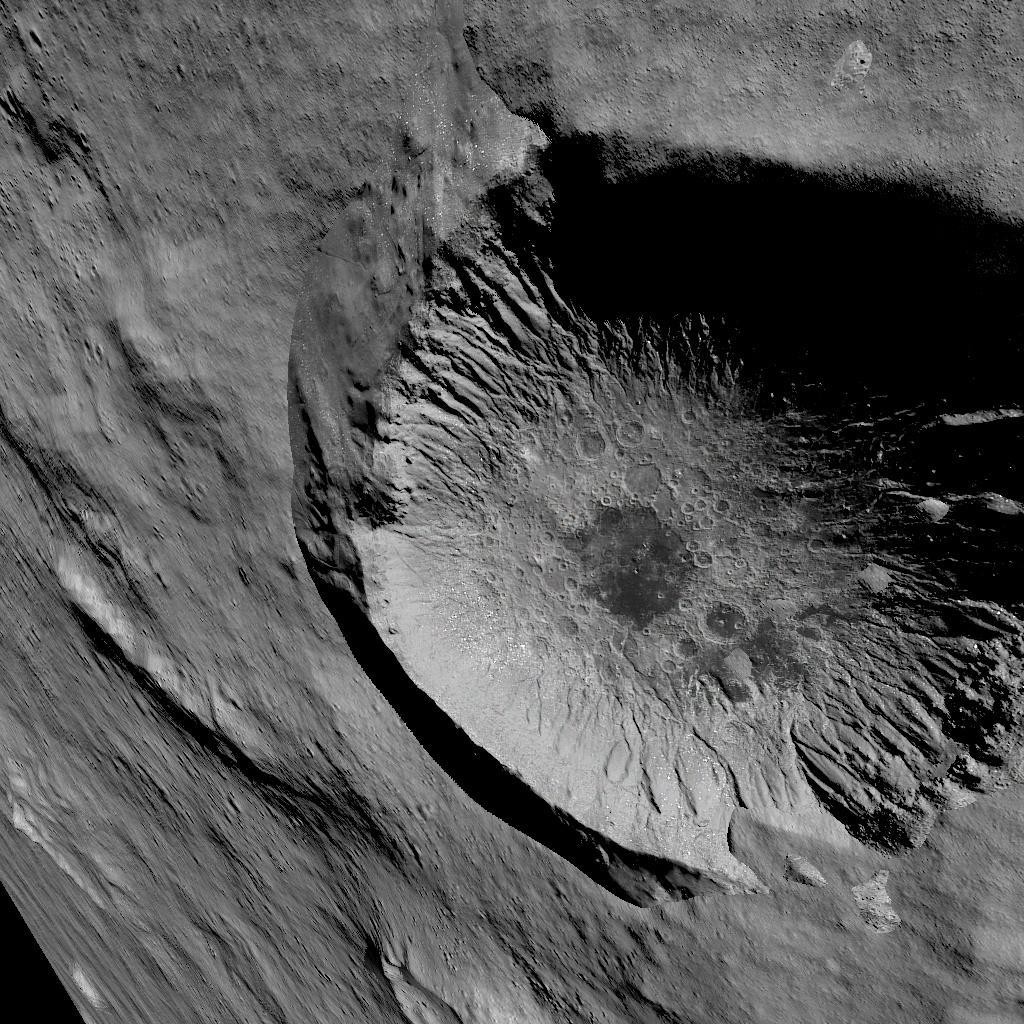Crater: (315, 46, 1024, 894), (372, 907, 524, 1024)
Plan surface: (1, 2, 295, 448)
